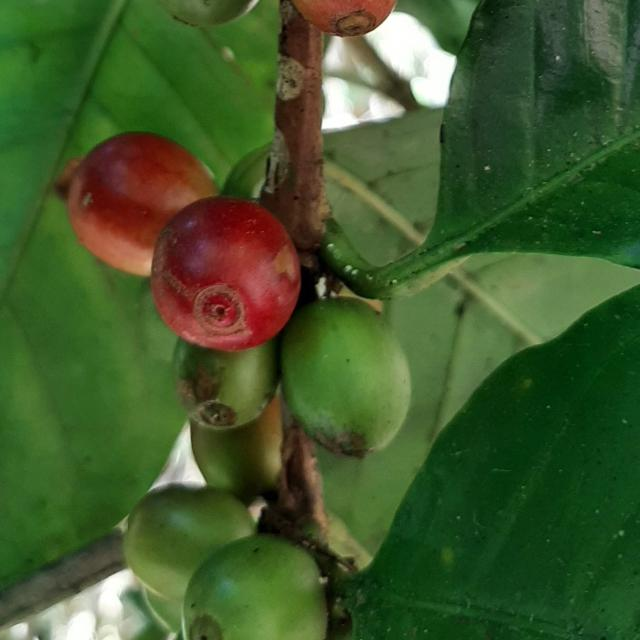green: (280, 298, 411, 458), (182, 536, 327, 640), (123, 486, 254, 601), (190, 397, 282, 503), (173, 339, 277, 427), (158, 0, 258, 27)
red: (149, 196, 301, 353)
yellow: (56, 132, 216, 276), (293, 0, 397, 36)
